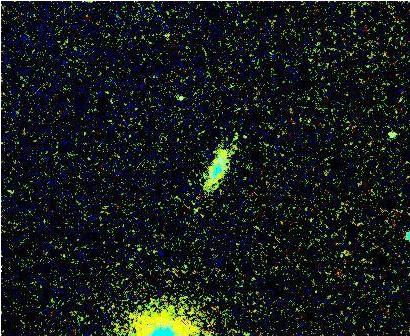star: (167, 83, 197, 113)
